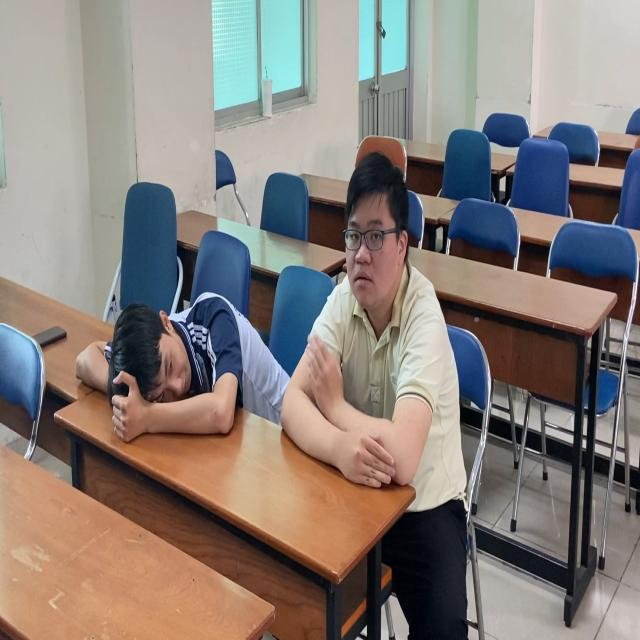sleep: (71, 291, 262, 448)
